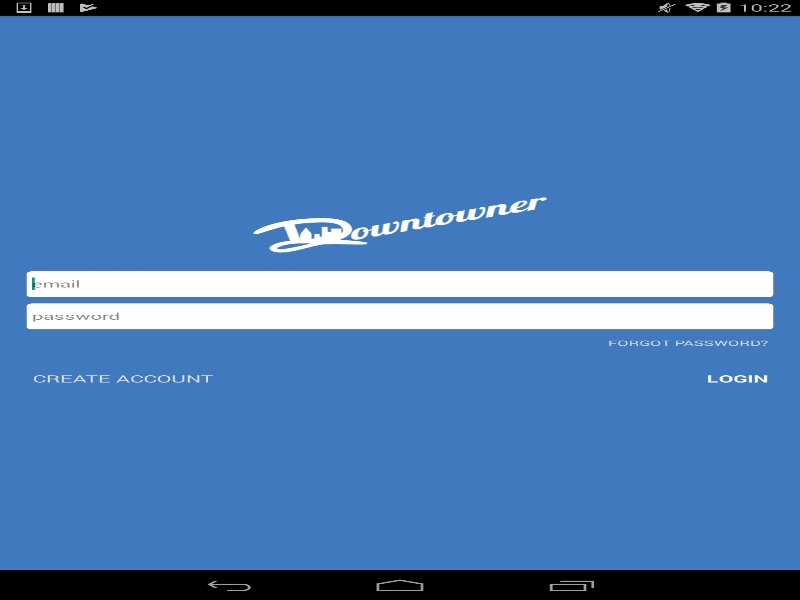Button: (26, 363, 218, 394), (656, 363, 773, 394), (602, 335, 773, 350)
Input: (26, 271, 773, 297), (26, 303, 773, 329)
